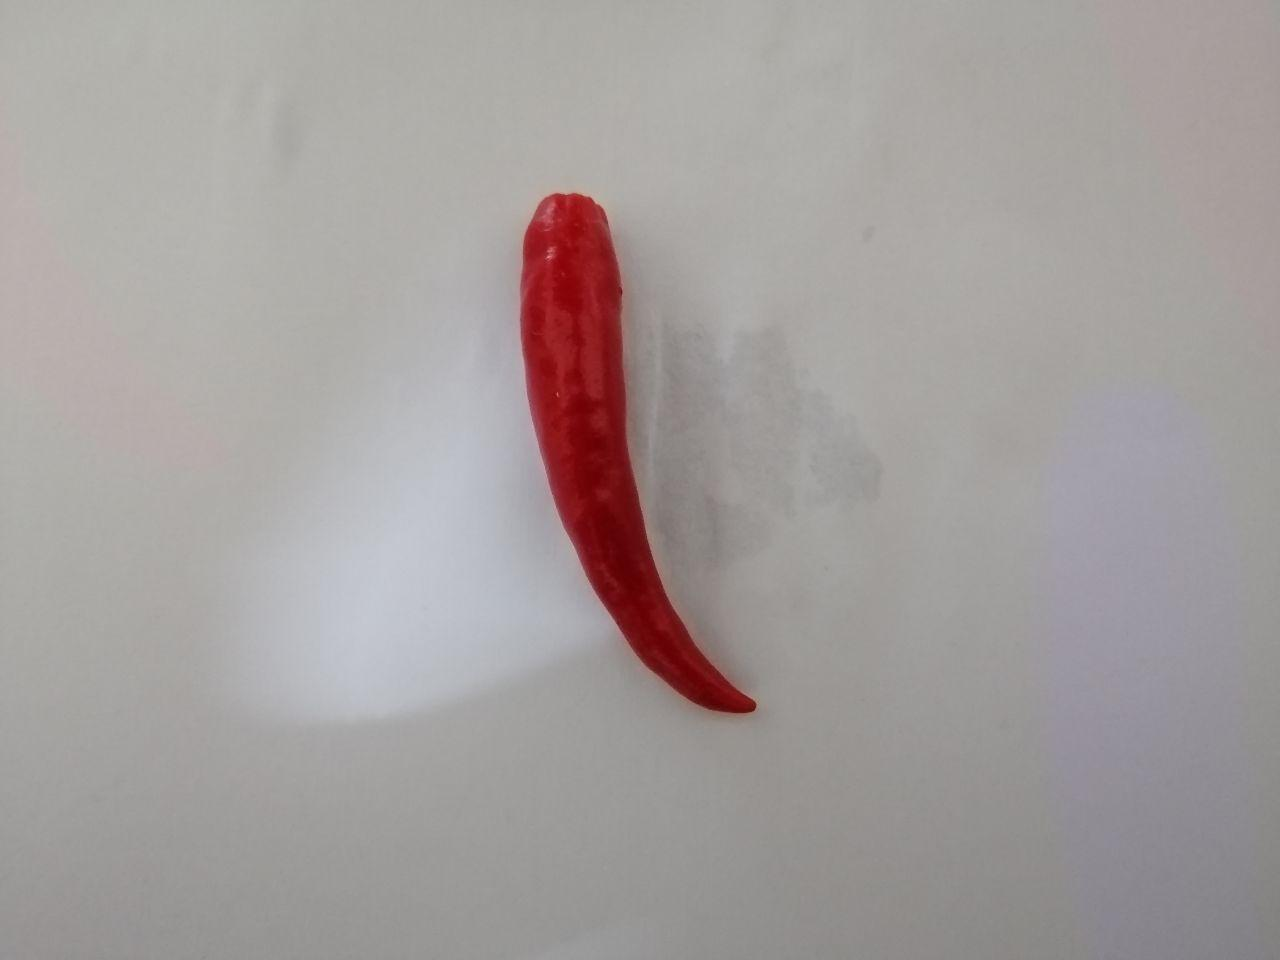lada merah: (488, 165, 797, 740)
